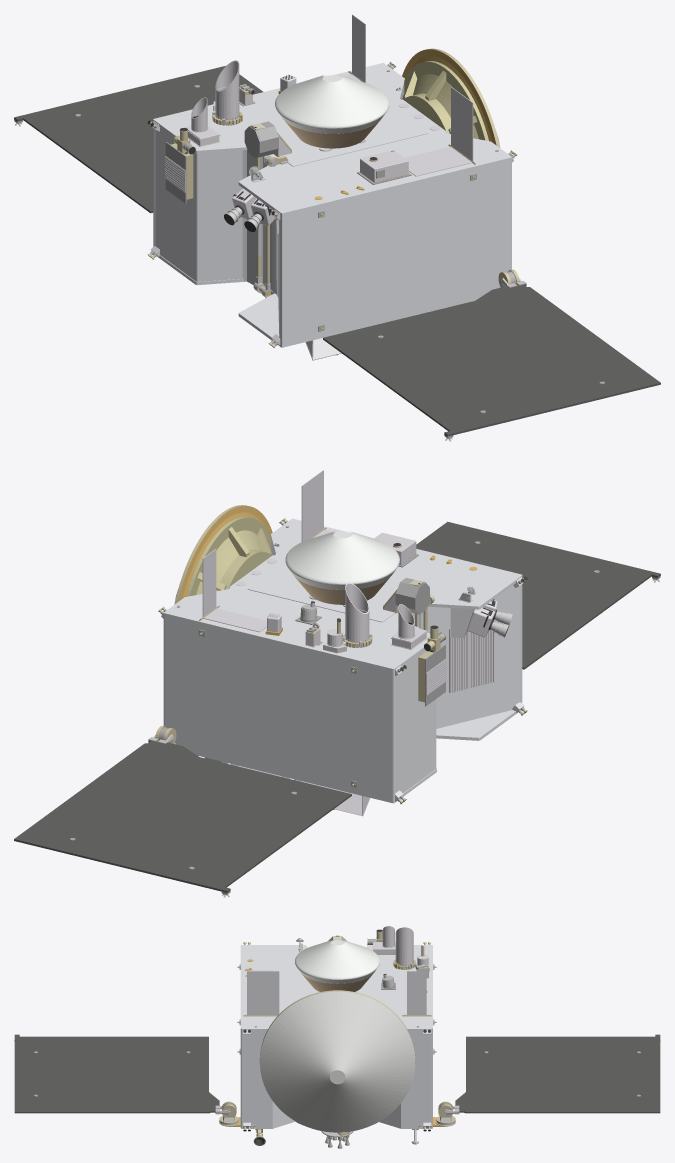
Rendered from osirisrex.glb.
The picture shows the model from 3 angles, top to bottom: view 1: azimuth 30°, elevation 25°; view 2: azimuth 150°, elevation 25°; view 3: azimuth 270°, elevation 25°; orthographic projection. The views are drawn at different scales.
Visible parts, largest first — view 1: Main Layer; view 2: Main Layer; view 3: Main Layer.
Part boxes in pixels (x1,y1,x2,y2): Main Layer: (14, 14, 660, 441); Main Layer: (14, 470, 660, 897); Main Layer: (14, 926, 660, 1148).
Size of the model in its own units: 13.72 by 12.01 by 34.65.
1 material, 1 textured.
